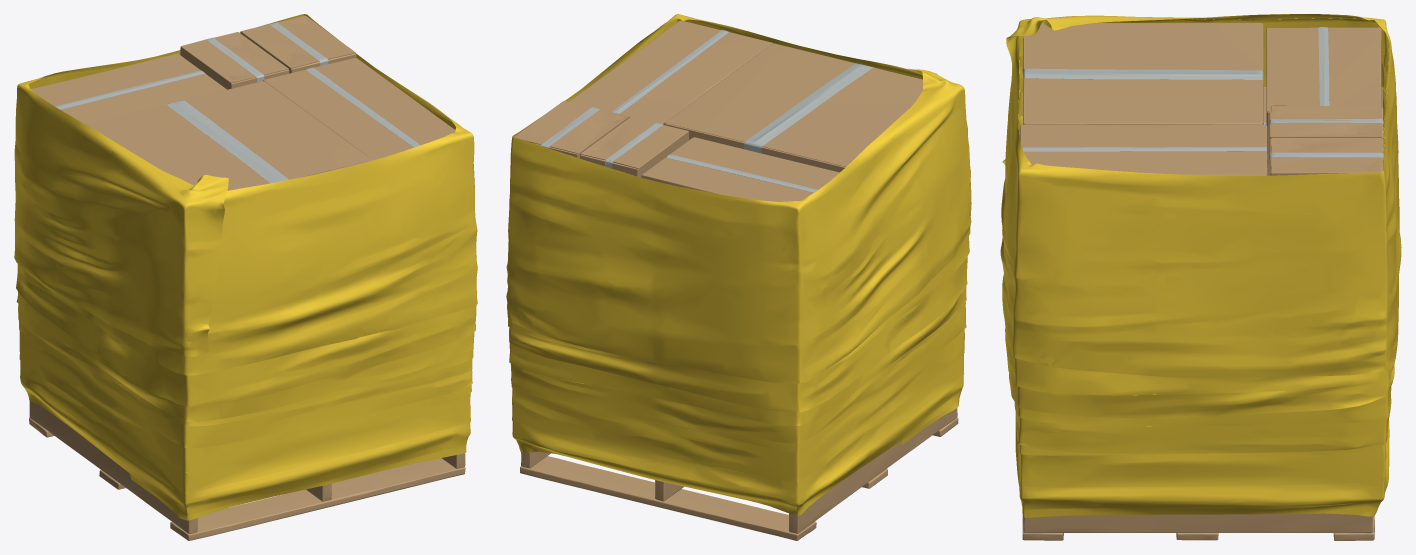
File: pallet_assembly_yellow_a05.glb
3 renders of one model, left to right at view 1: azimuth 30°, elevation 25°; view 2: azimuth 150°, elevation 25°; view 3: azimuth 270°, elevation 25°, orthographic. The views are drawn at different scales.
Size of the model in its own units: 1.01 by 1.09 by 1.02.
